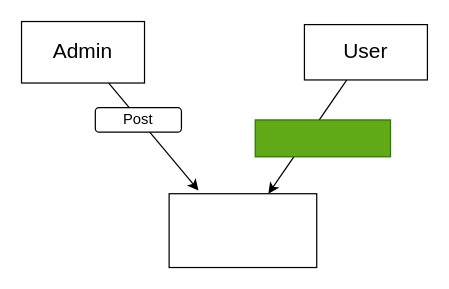
Image size: 449x289. Some labels were removed from this diagram. The centre of each missing label's shape, as x and y in pixels:
Login to access: point 322,138
Products: point 242,230
